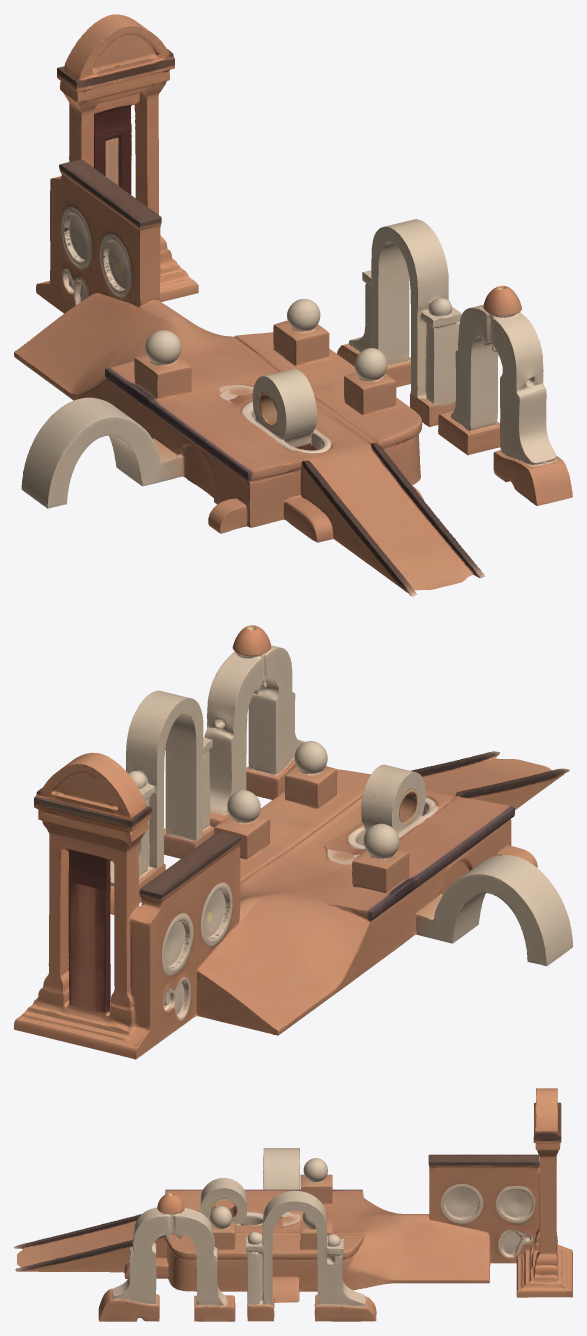
The picture shows the model from 3 angles, top to bottom: view 1: azimuth 30°, elevation 25°; view 2: azimuth 150°, elevation 25°; view 3: azimuth 270°, elevation 25°; orthographic projection. The views are drawn at different scales.
Parts seen in each view (by area): view 1: model; view 2: model; view 3: model.
Boxes of the visible parts, x1,y1,x2,y2 form: model: [14, 14, 572, 596]; model: [14, 625, 572, 1059]; model: [14, 1088, 572, 1321].
Bounding box in the file's own units: 1.1 × 0.6999 × 1.89.
1 material, 1 textured.
